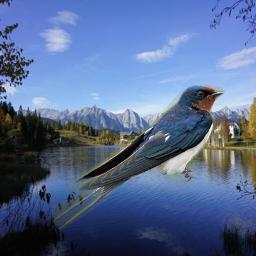Swallow: (52, 85, 225, 230)
